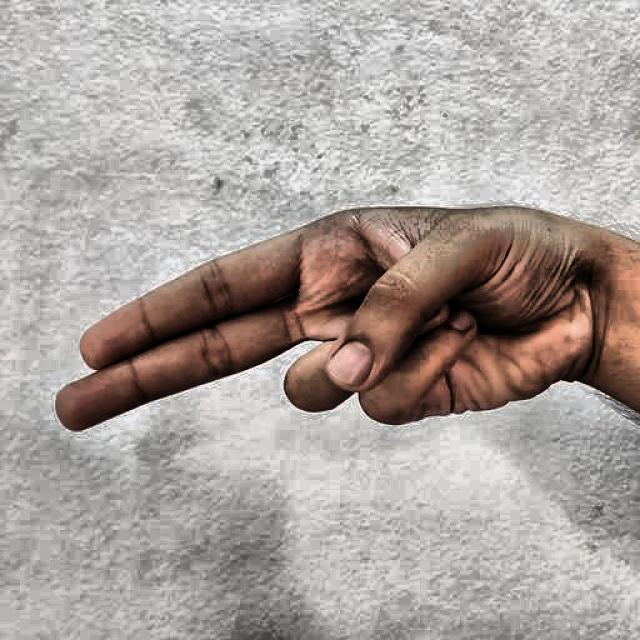Ha: (52, 174, 597, 580)
